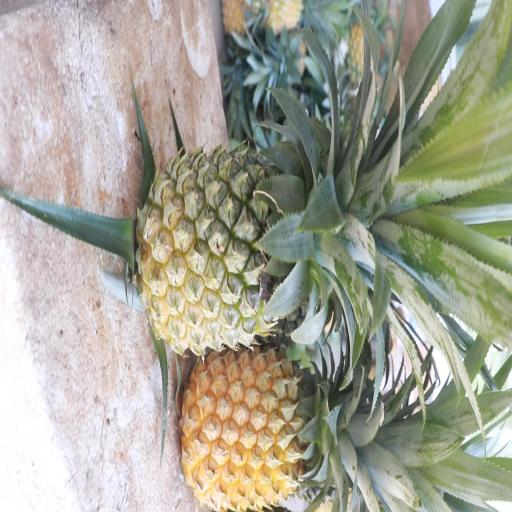------------------------------: (143, 150, 364, 352)
Pineapple - v8 v1: (179, 353, 360, 504)
